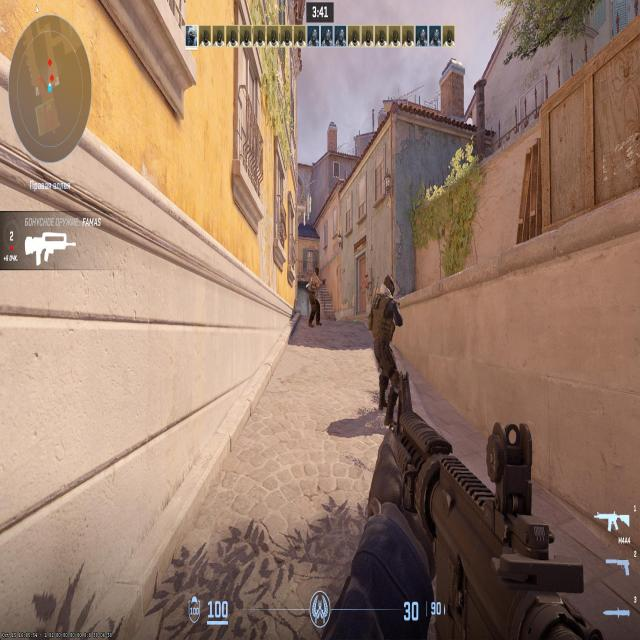CT: (373, 270, 396, 395)
CT_heat: (382, 272, 391, 293)
T: (309, 267, 320, 326)
T_heat: (314, 268, 318, 278)
